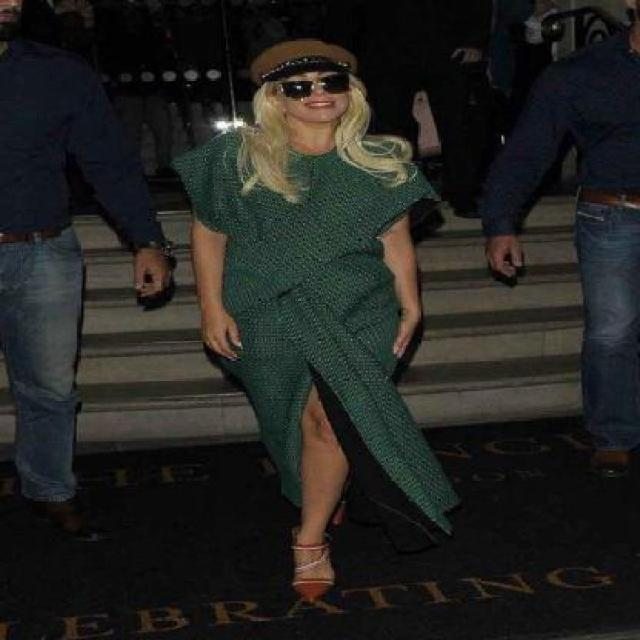Person: (191, 25, 447, 609)
